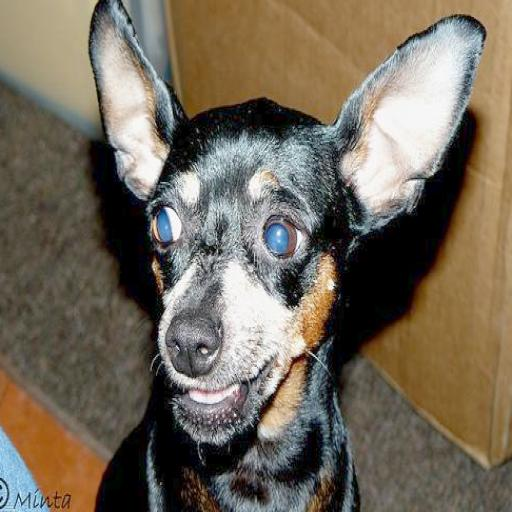dog_face: (84, 1, 483, 448)
